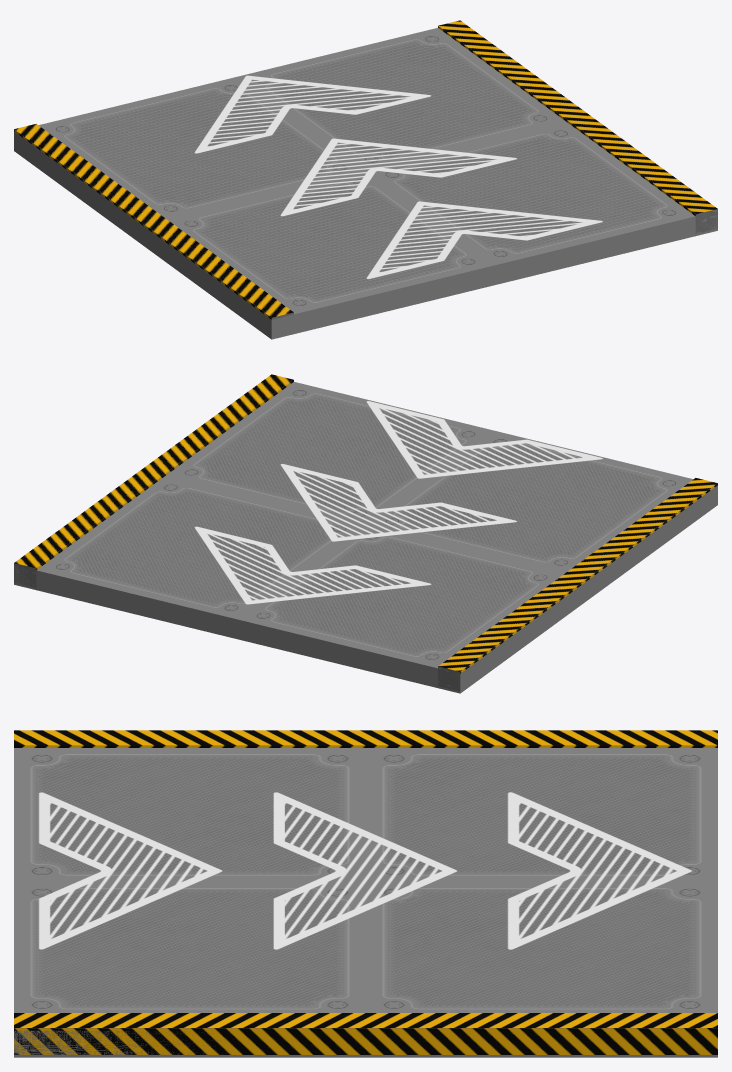
File: kartkids_base_trk_600__Turbo_2x2.gltf
3 renders of one model, top to bottom at view 1: azimuth 30°, elevation 25°; view 2: azimuth 150°, elevation 25°; view 3: azimuth 270°, elevation 25°, orthographic. The views are drawn at different scales.
Parts seen in each view (by area): view 1: kartkids_base_trk_600__Turbo_borders_2x2, kartkids_base_trk_600__Turbo_2x2; view 2: kartkids_base_trk_600__Turbo_borders_2x2, kartkids_base_trk_600__Turbo_2x2; view 3: kartkids_base_trk_600__Turbo_borders_2x2, kartkids_base_trk_600__Turbo_2x2.
Boxes of the visible parts, <box> form: kartkids_base_trk_600__Turbo_borders_2x2: <box>14,28,717,339</box>; kartkids_base_trk_600__Turbo_2x2: <box>14,20,717,319</box>; kartkids_base_trk_600__Turbo_borders_2x2: <box>14,382,717,693</box>; kartkids_base_trk_600__Turbo_2x2: <box>14,374,717,691</box>; kartkids_base_trk_600__Turbo_borders_2x2: <box>14,748,717,1057</box>; kartkids_base_trk_600__Turbo_2x2: <box>14,730,717,1054</box>.
Size of the model in its own units: 2 by 0.1192 by 2.
3 materials, 3 textured.
